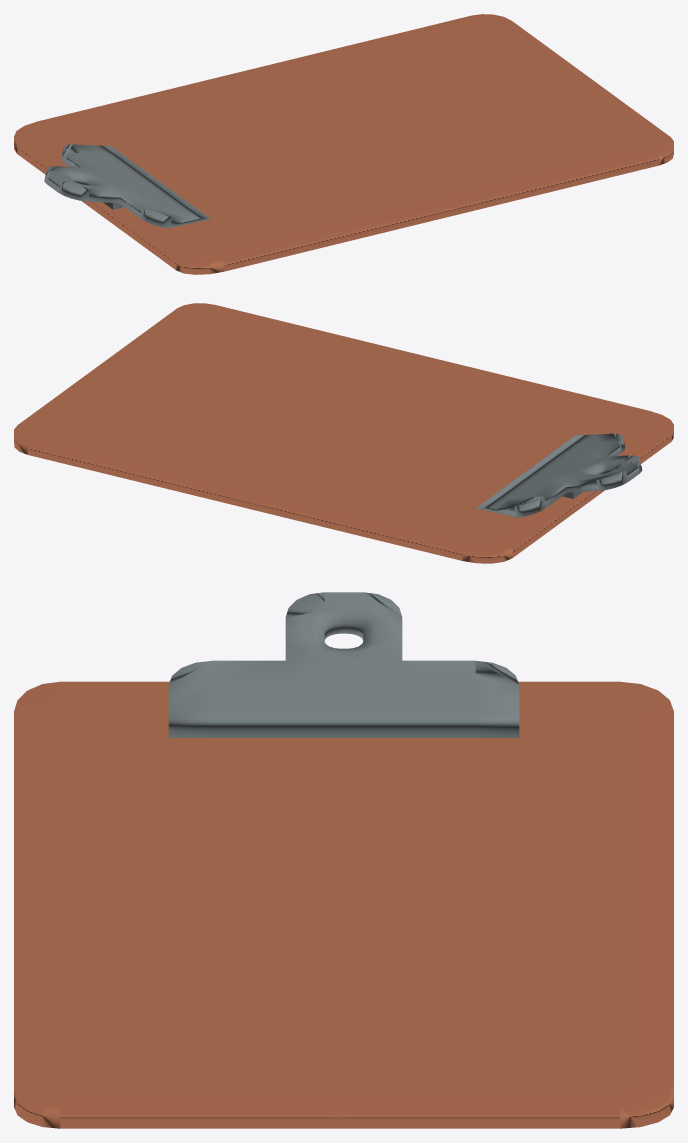
File: PortaPapeles.fbx
The picture shows the model from 3 angles, top to bottom: view 1: azimuth 30°, elevation 25°; view 2: azimuth 150°, elevation 25°; view 3: azimuth 270°, elevation 25°; orthographic projection. The views are drawn at different scales.
Parts seen in each view (by area): view 1: TblaMadera, Cube.001; view 2: TblaMadera, Cube.001; view 3: TblaMadera, Cube.001.
Boxes of the visible parts, x1=… form: TblaMadera: x1=14, y1=14, x2=673, y2=274; Cube.001: x1=44, y1=144, x2=210, y2=228; TblaMadera: x1=14, y1=303, x2=673, y2=563; Cube.001: x1=476, y1=433, x2=642, y2=517; TblaMadera: x1=14, y1=681, x2=673, y2=1128; Cube.001: x1=168, y1=592, x2=519, y2=737.
Size of the model in its own units: 142 by 11.12 by 86.06.
